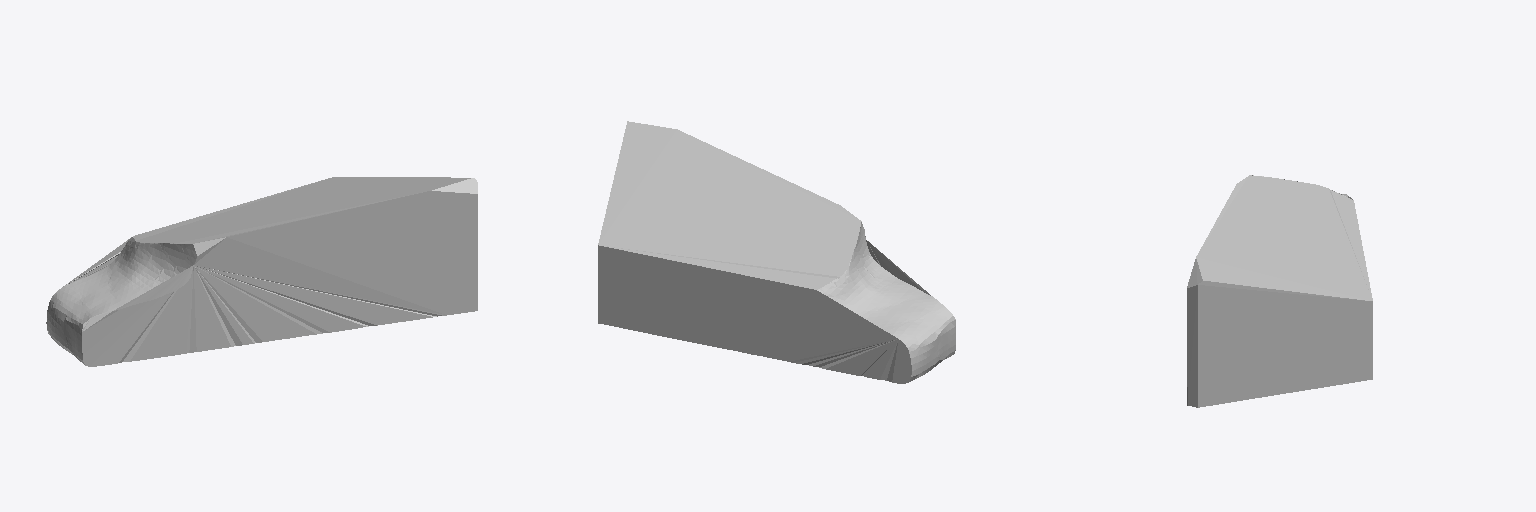
File: low_cell_023.obj
3 views of the same model, side by side, from view 1: azimuth 30°, elevation 25°; view 2: azimuth 150°, elevation 25°; view 3: azimuth 270°, elevation 25° (orthographic).
Parts seen in each view (by area): view 1: low_cell.023_low_cell.022; view 2: low_cell.023_low_cell.022; view 3: low_cell.023_low_cell.022.
Part boxes in pixels (x1,y1,x2,y2): low_cell.023_low_cell.022: (46, 177, 477, 366); low_cell.023_low_cell.022: (598, 121, 955, 383); low_cell.023_low_cell.022: (1187, 175, 1372, 407).
Bounding box in the file's own units: 1.23 × 0.4133 × 0.5502.